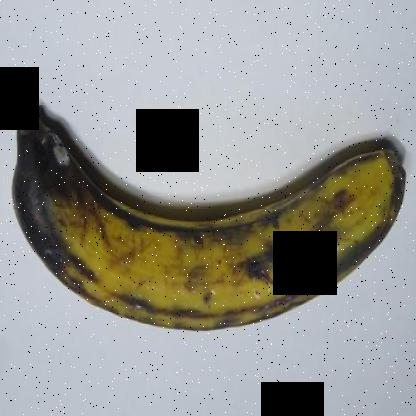overripe: (1, 72, 414, 348)
rotten: (0, 85, 112, 293)
